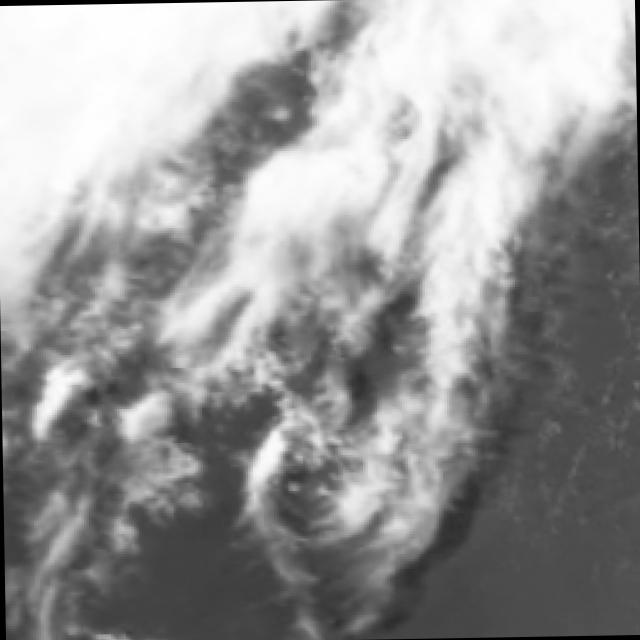CB: (0, 2, 214, 103), (0, 3, 125, 173), (406, 0, 609, 80)
